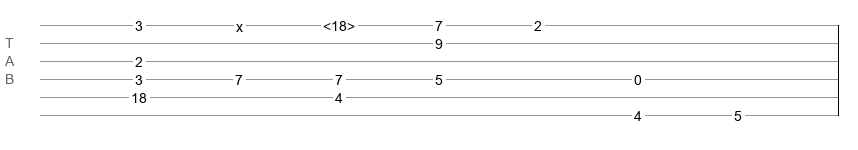0: (634, 72, 642, 82)
18: (131, 90, 147, 100)
2: (135, 54, 143, 64), (534, 18, 542, 28)
3: (135, 72, 143, 82), (135, 18, 143, 28)
4: (335, 90, 343, 100), (634, 108, 642, 118)
5: (435, 72, 443, 82), (734, 108, 742, 118)
7: (235, 72, 243, 82), (335, 72, 343, 82), (435, 18, 443, 28)
9: (435, 36, 443, 46)
harmonic: (323, 18, 355, 28)
x: (236, 19, 243, 27)
